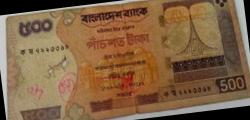500 taka: (6, 14, 250, 118)
